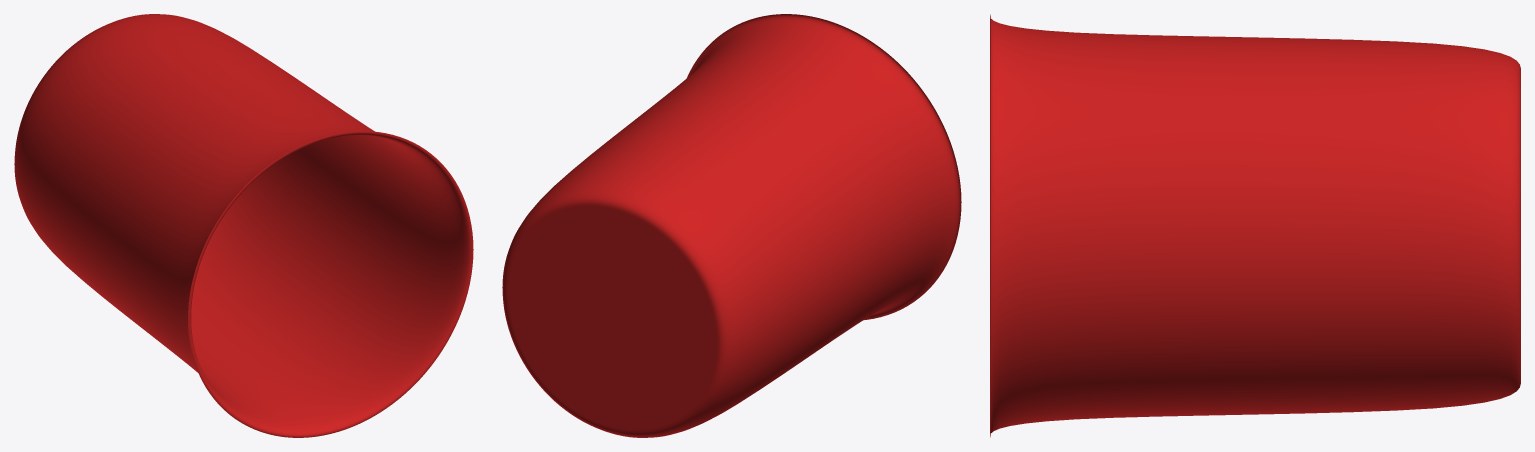
3 renders of one model, left to right at view 1: azimuth 30°, elevation 25°; view 2: azimuth 150°, elevation 25°; view 3: azimuth 270°, elevation 25°, orthographic. The views are drawn at different scales.
Size of the model in its own units: 0.6936 by 0.6935 by 0.8681.
